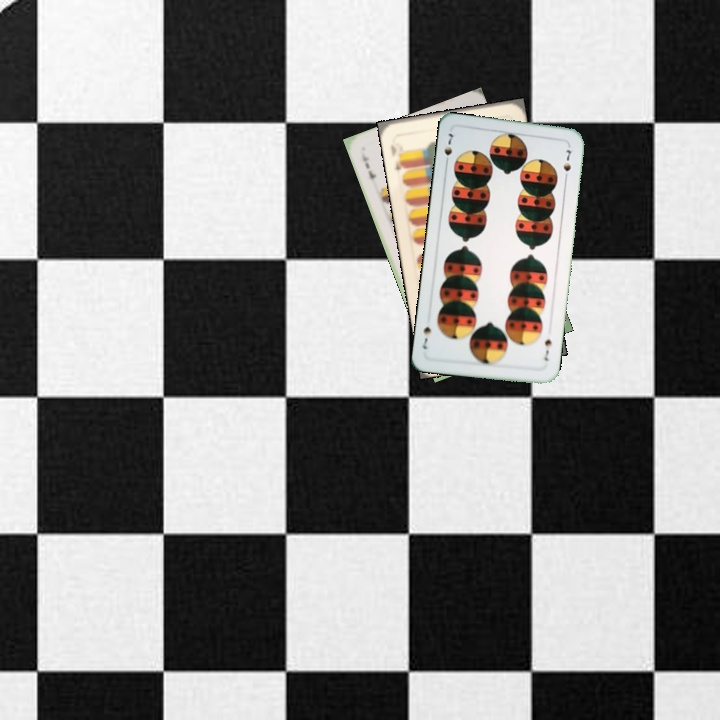E10: (387, 140, 408, 173)
E7: (357, 148, 378, 182)
S7: (440, 129, 458, 168), (540, 332, 554, 363)
